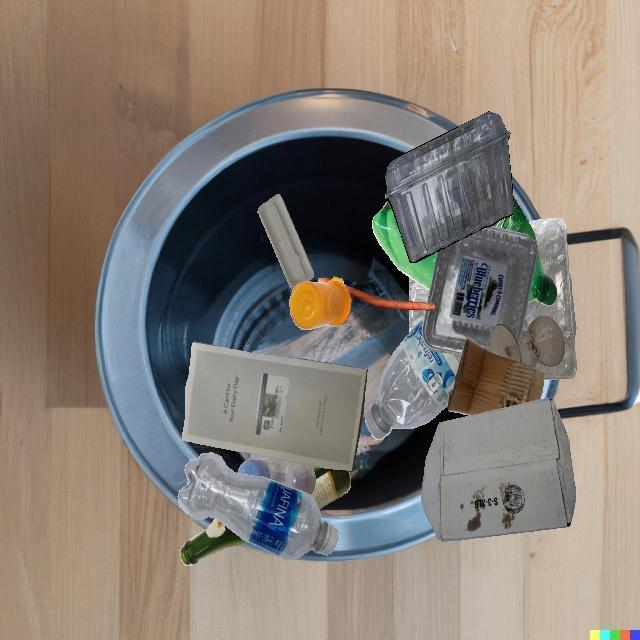biowaste: (345, 285, 436, 310)
cardboard: (421, 398, 576, 542), (448, 338, 544, 415), (569, 273, 576, 341)
glass: (490, 316, 564, 367), (180, 519, 249, 565), (310, 465, 351, 509)
paper: (182, 341, 367, 470)
plastic: (384, 111, 514, 263), (177, 452, 338, 560), (421, 226, 538, 355), (365, 318, 461, 440), (522, 218, 577, 380), (492, 198, 557, 306), (372, 200, 438, 291), (258, 194, 314, 289), (409, 277, 552, 309), (290, 276, 351, 330), (237, 456, 316, 495), (489, 330, 522, 383), (446, 383, 489, 415), (522, 351, 537, 369), (522, 330, 527, 344)
